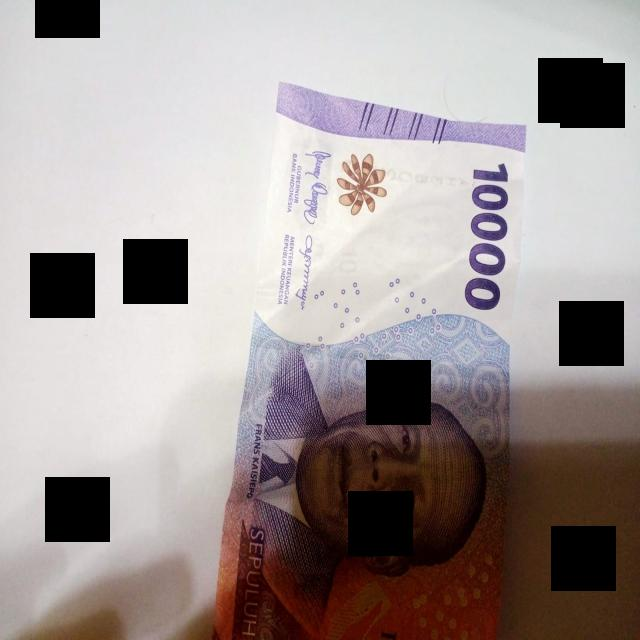sepuluhribu rupiah: (215, 83, 525, 638)
